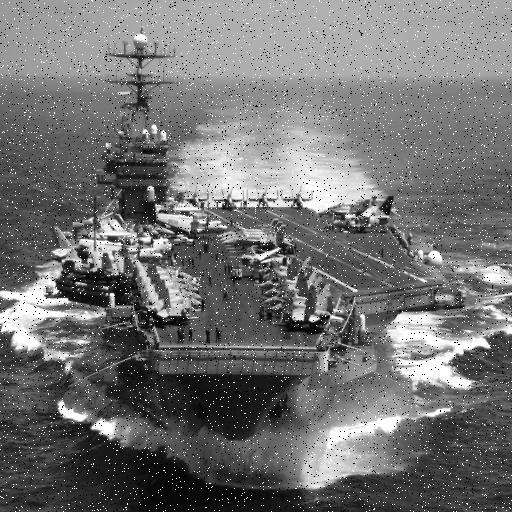Portanaves: (44, 22, 470, 445)
